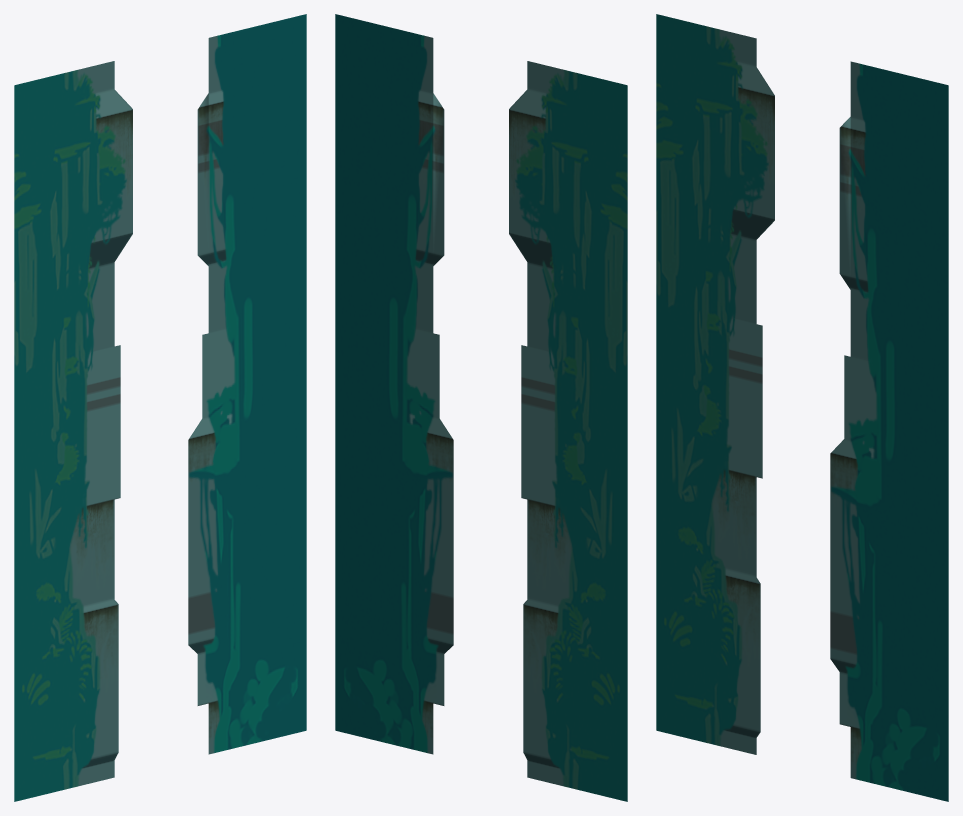
File: Selva_Layer_03.FBX
The picture shows the model from 3 angles, left to right: view 1: azimuth 30°, elevation 25°; view 2: azimuth 150°, elevation 25°; view 3: azimuth 330°, elevation 25°; orthographic projection.
Parts seen in each view (by area): view 1: Selva_Layer_03; view 2: Selva_Layer_03; view 3: Selva_Layer_03.
Boxes of the visible parts, left/top/right/bottom form: Selva_Layer_03: left=14, top=14, right=306, bottom=801; Selva_Layer_03: left=335, top=14, right=627, bottom=801; Selva_Layer_03: left=656, top=14, right=948, bottom=801.
Bounding box in the file's own units: 5120 × 12000 × 0.000977.
